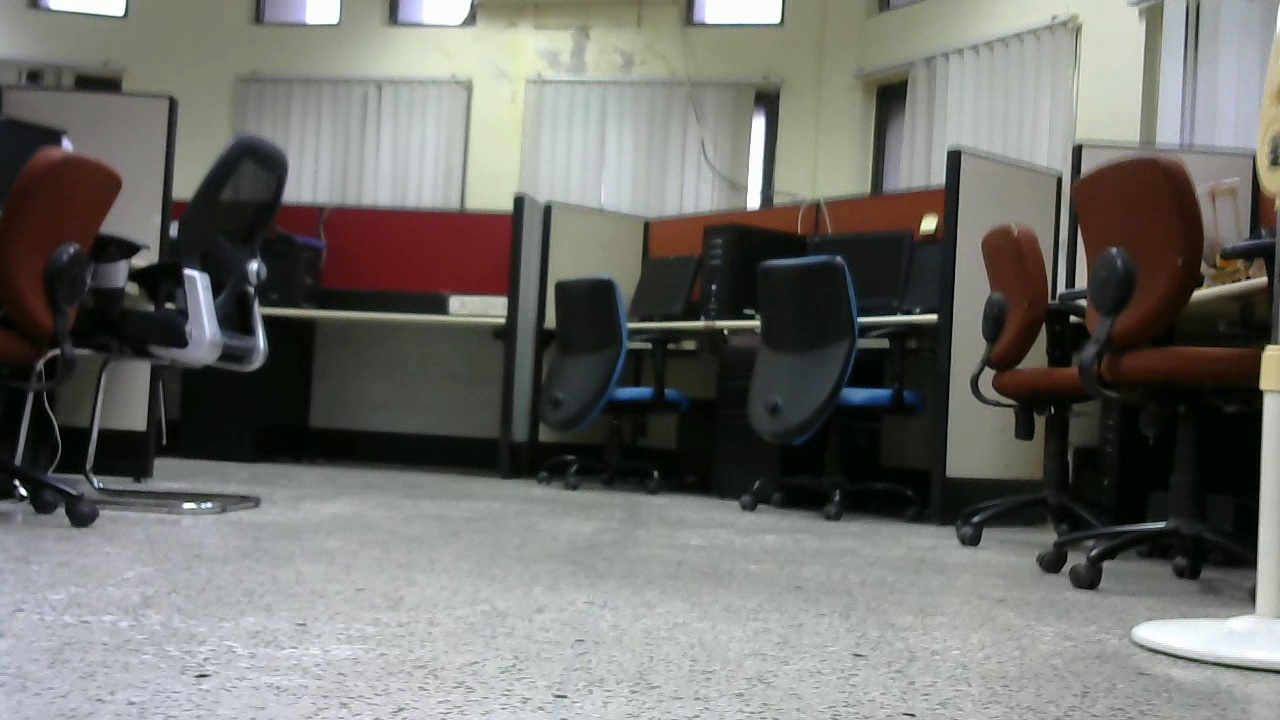chair: (1060, 148, 1276, 590), (128, 135, 293, 515), (952, 223, 1115, 546), (738, 251, 924, 516), (5, 152, 124, 525), (543, 276, 698, 499)
